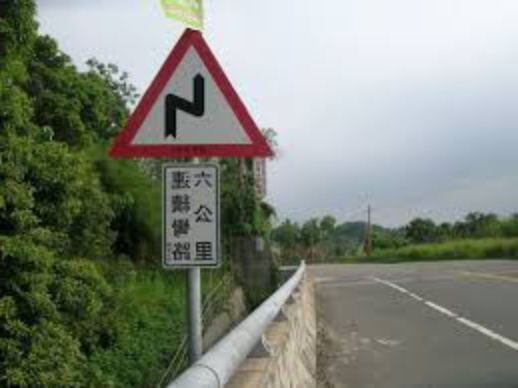Double_bend_right: (106, 28, 280, 158)
